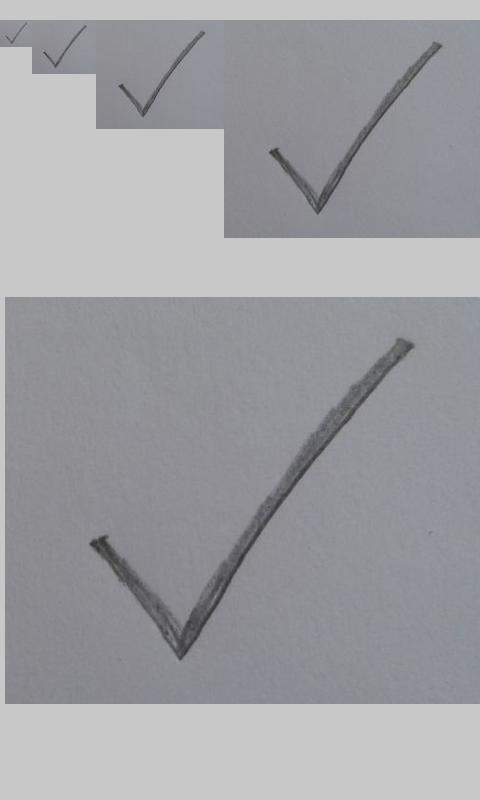check_box: (90, 339, 414, 659), (269, 42, 441, 216), (118, 31, 204, 118), (43, 25, 86, 68), (5, 22, 27, 44)
